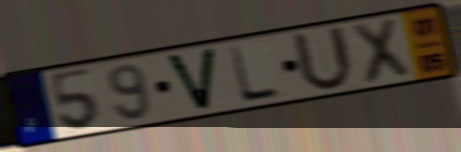5: (46, 64, 104, 134)
9: (106, 62, 153, 122)
L: (227, 43, 283, 105)
U: (289, 24, 356, 95)
V: (162, 46, 220, 114)
X: (348, 15, 414, 88)
